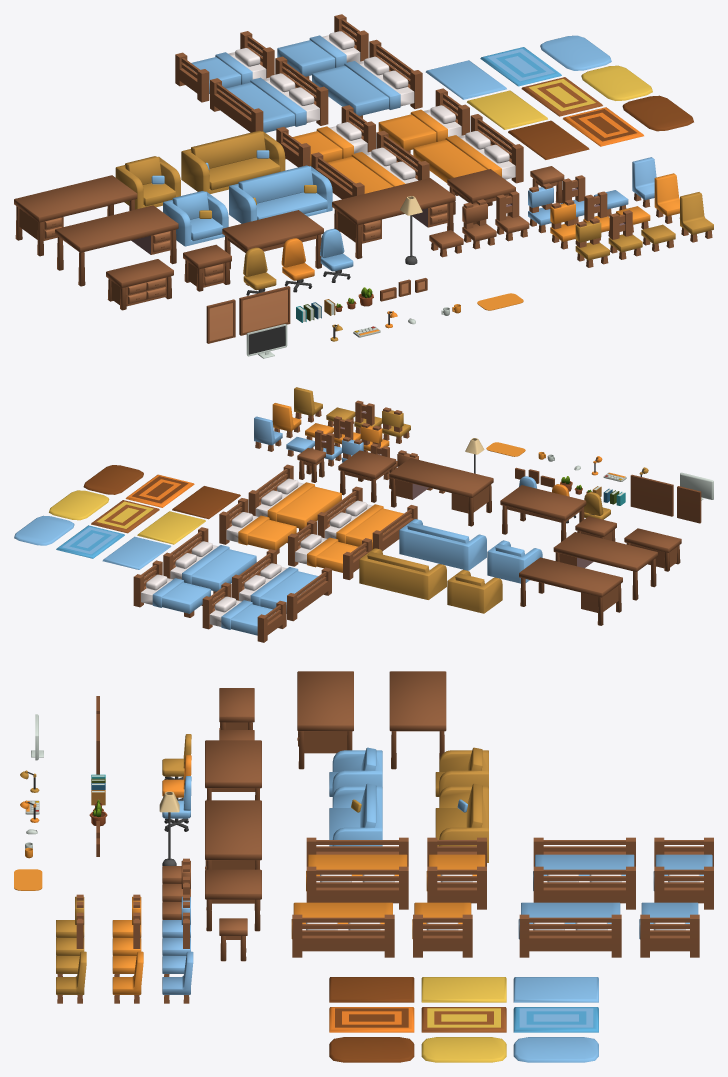
The model's file is Furniture Pack.glb.
The picture shows the model from 3 angles, top to bottom: view 1: azimuth 30°, elevation 25°; view 2: azimuth 150°, elevation 25°; view 3: azimuth 270°, elevation 25°; orthographic projection. The views are drawn at different scales.
Parts seen in each view (by area): view 1: Bed.015, Bed.013, Table.010, Couch.005, Table.013, Couch.007, Bed.009, Table.006, Bed.011, Bed.014, Bed.002, Bed.004 (+36 smaller); view 2: Bed.015, Table.010, Bed.011, Bed.009, Bed.013, Table.006, Couch.007, Couch.005, Table.013, Bed.014, Bed.002, Bed.004 (+29 smaller); view 3: Bed.015, Bed.011, Bed.009, Bed.013, Table.013, Table.010, Table.006, Bed.002, Bed.014, Bed.008, Bed.004, Table.009 (+27 smaller).
Boxes of the visible parts, left/top/right/bottom form: Bed.015: left=210, top=56, right=328, bottom=132; Bed.013: left=312, top=39, right=422, bottom=120; Table.010: left=332, top=178, right=455, bottom=258; Couch.005: left=181, top=130, right=285, bottom=193; Table.013: left=55, top=205, right=178, bottom=286; Couch.007: left=229, top=165, right=332, bottom=223; Bed.009: left=413, top=114, right=523, bottom=195; Table.006: left=14, top=175, right=137, bottom=256; Bed.011: left=311, top=130, right=429, bottom=199; Bed.014: left=175, top=31, right=274, bottom=102; Bed.002: left=276, top=105, right=375, bottom=167; Bed.004: left=277, top=14, right=368, bottom=81; Bed.015: left=232, top=549, right=331, bottom=621; Table.010: left=389, top=458, right=493, bottom=526; Bed.011: left=317, top=486, right=417, bottom=551; Bed.009: left=248, top=464, right=341, bottom=532; Bed.013: left=163, top=527, right=256, bottom=594; Table.006: left=519, top=557, right=622, bottom=625; Couch.007: left=399, top=519, right=486, bottom=570; Couch.005: left=359, top=548, right=446, bottom=599; Table.013: left=553, top=532, right=657, bottom=600; Bed.014: left=202, top=582, right=286, bottom=642; Bed.002: left=288, top=519, right=371, bottom=579; Bed.004: left=133, top=560, right=210, bottom=617; Bed.015: left=533, top=837, right=635, bottom=909; Bed.011: left=306, top=837, right=408, bottom=909; Bed.009: left=291, top=902, right=394, bottom=957; Bed.013: left=518, top=902, right=621, bottom=957; Table.013: left=297, top=671, right=353, bottom=769; Table.010: left=205, top=800, right=261, bottom=869; Table.006: left=389, top=671, right=446, bottom=769; Bed.002: left=426, top=837, right=486, bottom=909; Bed.014: left=653, top=837, right=713, bottom=909; Bed.008: left=412, top=902, right=472, bottom=957; Bed.004: left=639, top=902, right=699, bottom=957; Table.009: left=205, top=740, right=261, bottom=800.
Size of the model in its own units: 8.66 by 0.8464 by 7.4.
1 material, 1 textured.
